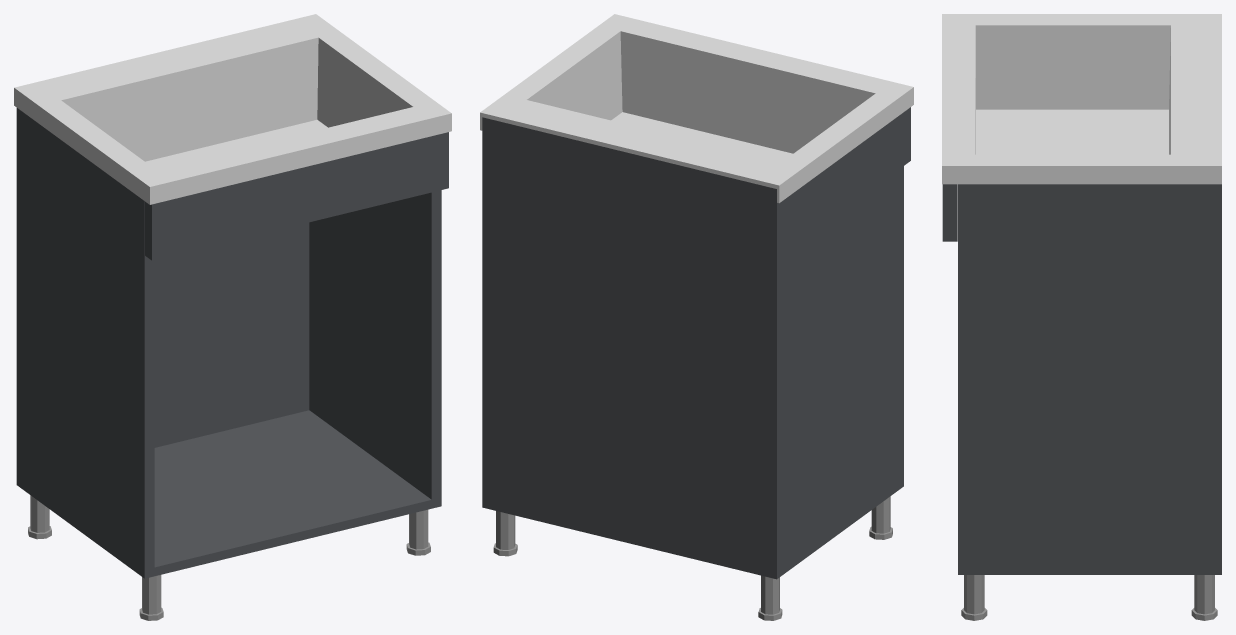
The model's file is Bathroom_C3_02.fbx.
3 views of the same model, side by side, from view 1: azimuth 30°, elevation 25°; view 2: azimuth 150°, elevation 25°; view 3: azimuth 270°, elevation 25° (orthographic). The views are drawn at different scales.
Visible parts, largest first — view 1: Bathroom_C3_02; view 2: Bathroom_C3_02; view 3: Bathroom_C3_02.
Boxes of the visible parts, bbox=[...] form: Bathroom_C3_02: bbox=[14, 14, 451, 620]; Bathroom_C3_02: bbox=[480, 14, 913, 620]; Bathroom_C3_02: bbox=[942, 14, 1221, 620].
Size of the model in its own units: 61 by 85.82 by 47.51.
